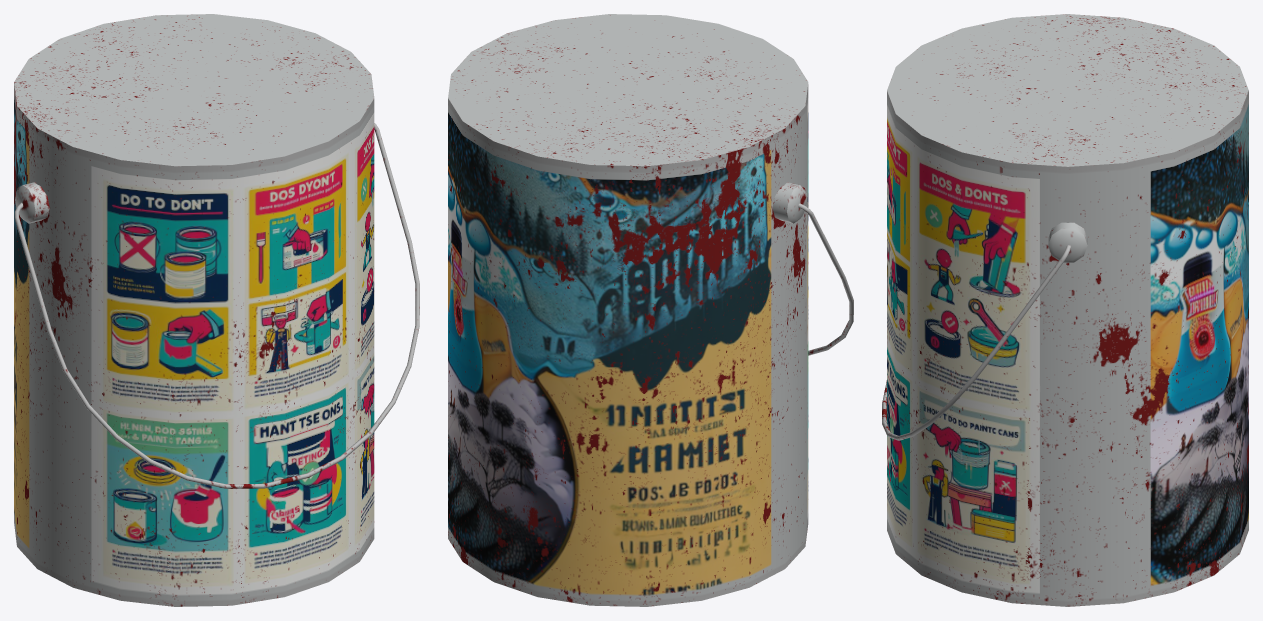
File: PaintCan.fbx
3 views of the same model, side by side, from view 1: azimuth 30°, elevation 25°; view 2: azimuth 150°, elevation 25°; view 3: azimuth 270°, elevation 25° (orthographic).
Parts seen in each view (by area): view 1: PaintCan; view 2: PaintCan; view 3: PaintCan.
Boxes of the visible parts, x1,y1,x2,y2 form: PaintCan: (14,14,419,606); PaintCan: (448,14,853,606); PaintCan: (882,14,1248,606).
Size of the model in its own units: 21.11 by 24.39 by 18.42.
Materials: 1 (1 with a texture image).
